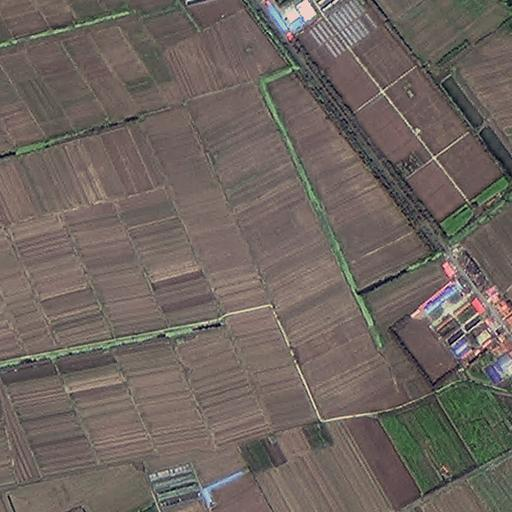school: (392, 281, 497, 386)
